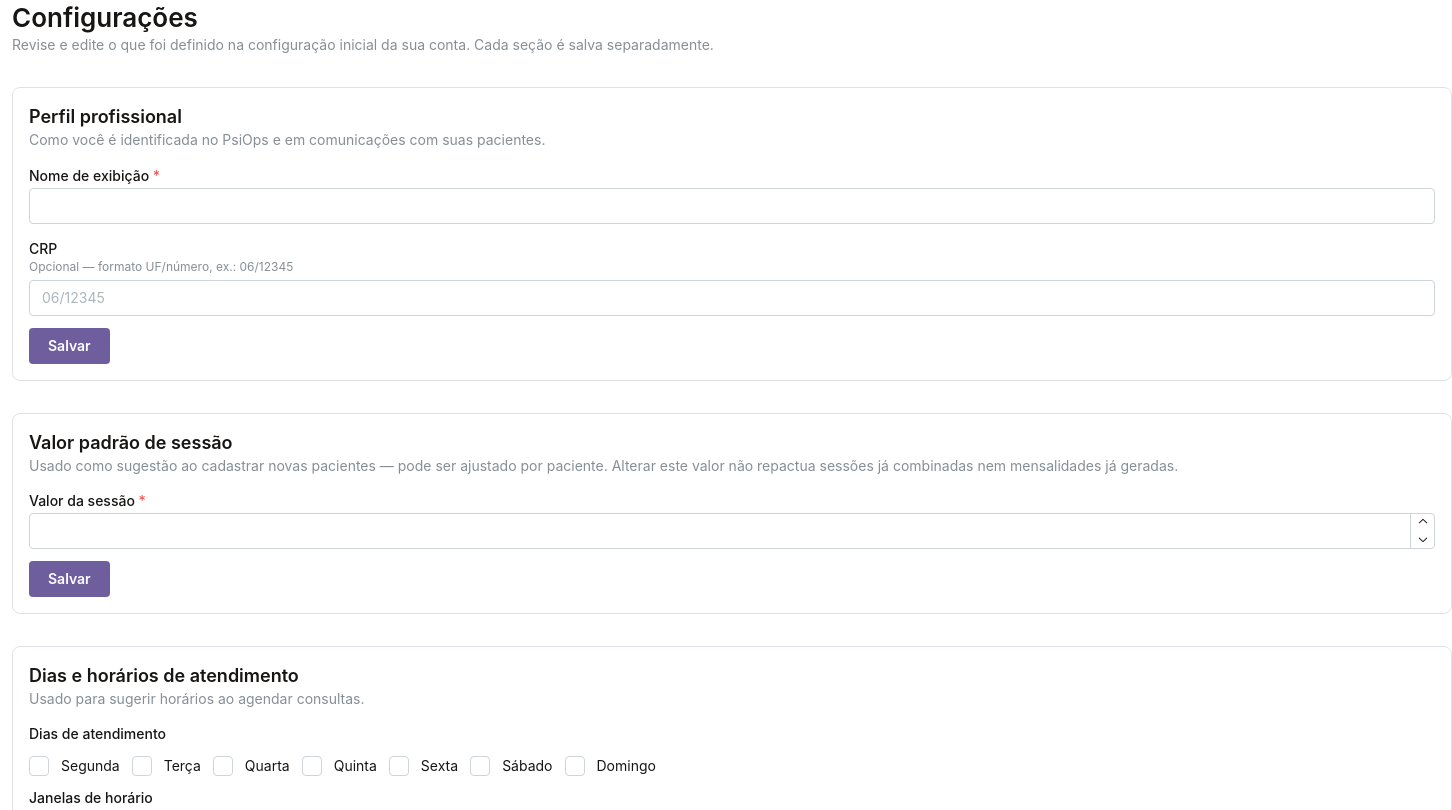
Scenario: SettingsPage › seção atendimento: salva dias e janelas de horário via adapter
The width and height of the screenshot is (1452, 810).
Click the checkbox labelled "Segunda".
click(39, 766)  # box top-left (29, 756), bottom-right (49, 776)
(page scrolled)
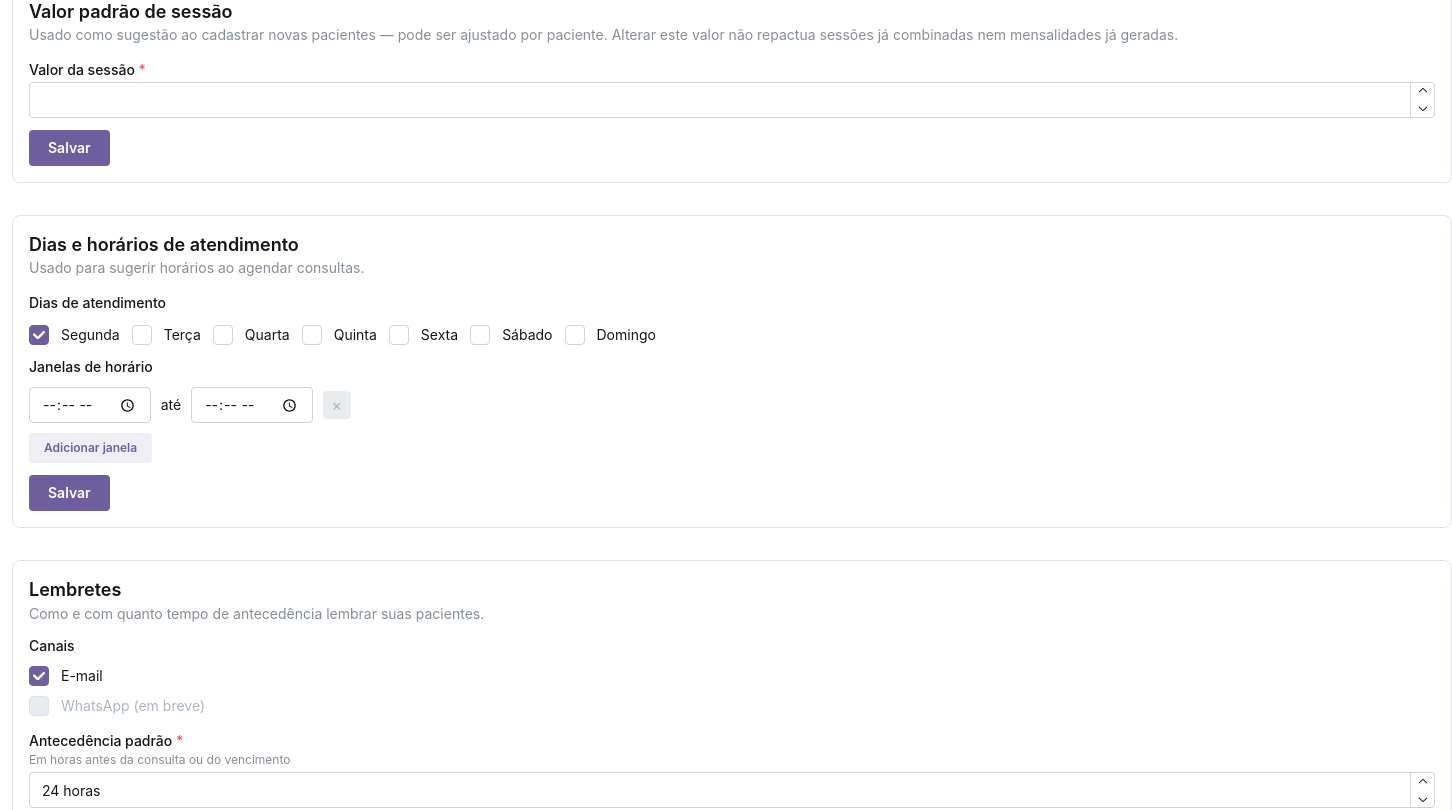
Type "08:00" into the time field named "Início da janela 1".
click(90, 405); type("08:00")  # box top-left (29, 387), bottom-right (151, 423)
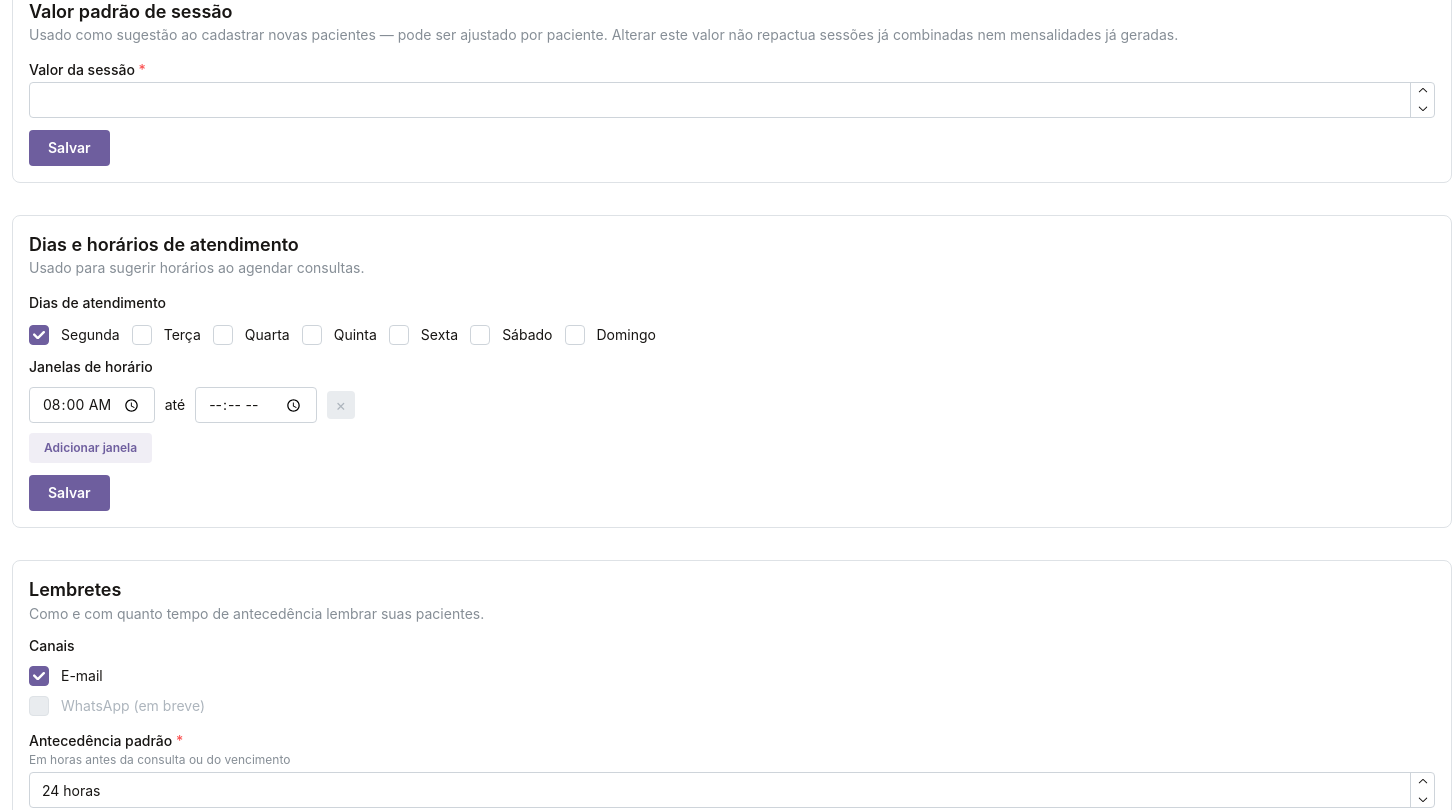
Type "12:00" into the time field named "Término da janela 1".
click(256, 405); type("12:00")  # box top-left (195, 387), bottom-right (317, 423)
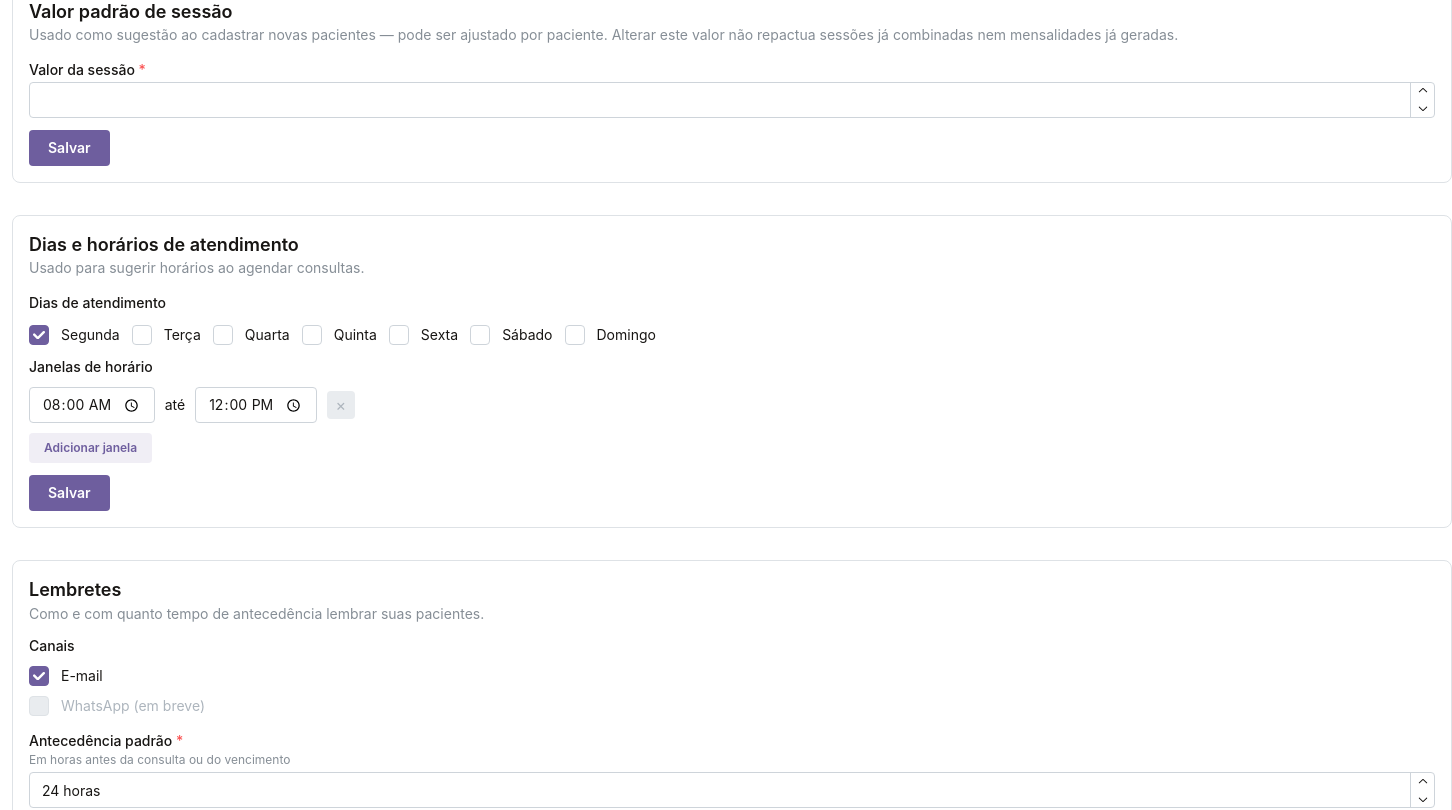
Click the submit button.
click(69, 493)  # box top-left (29, 475), bottom-right (110, 511)
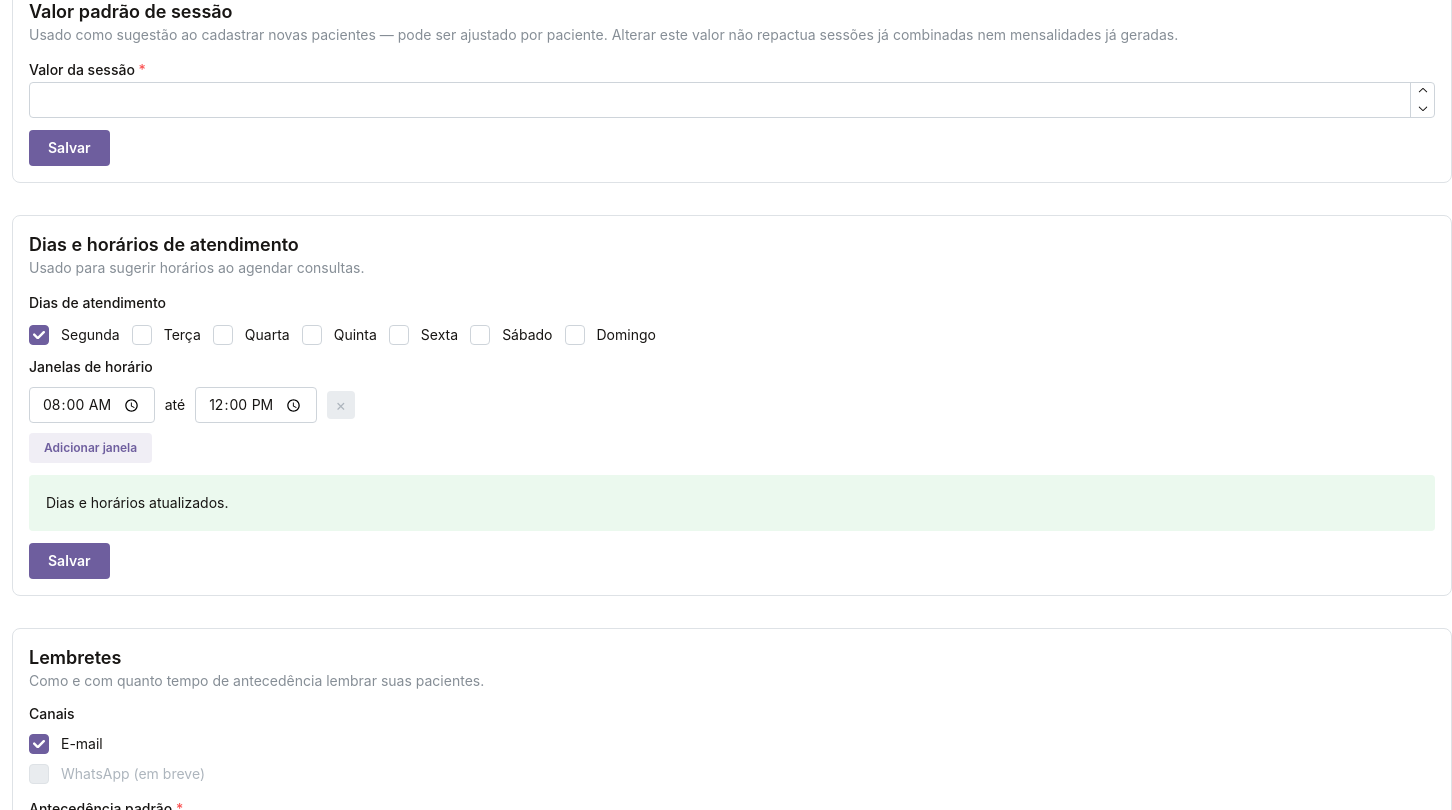
Check: the message "Dias e horários atualizados." is shown, box top-left (29, 475), bottom-right (1435, 531)
